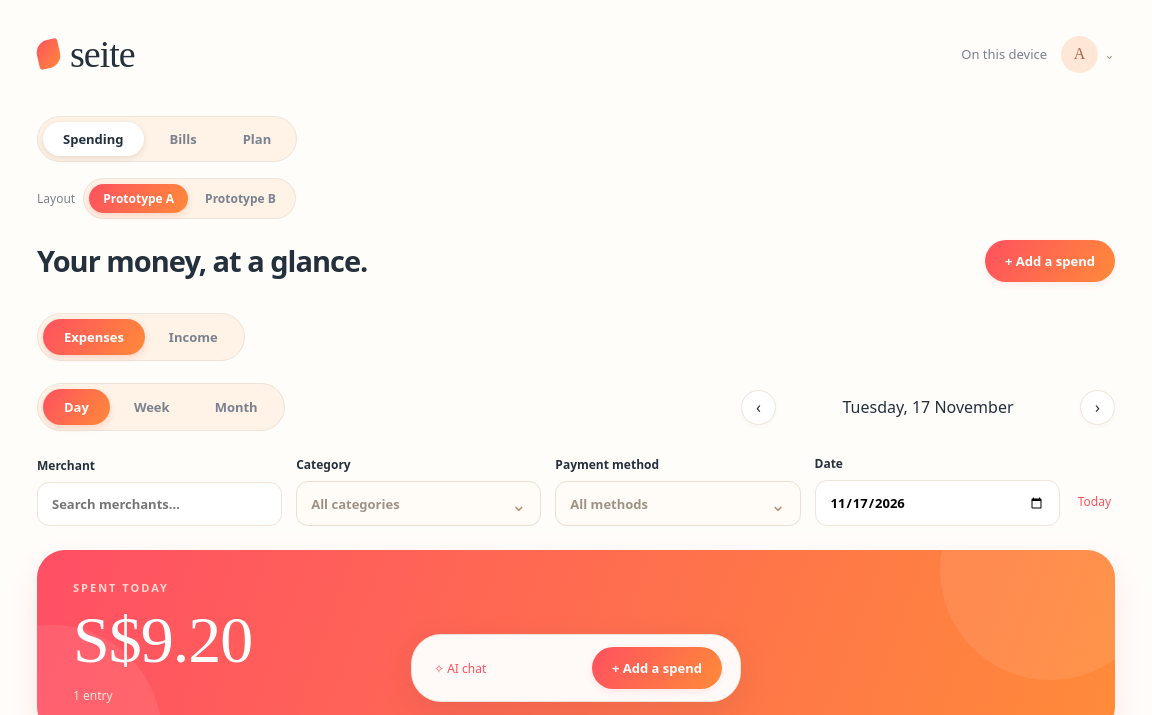
Test case: account navigation › ends the local session without deleting entries or profile
Expected: the heading "Your money, at a glance." is shown, [37,241,367,280]
Click the heading named "Open account menu".
click(1088, 54)  # box [1061,36,1115,72]
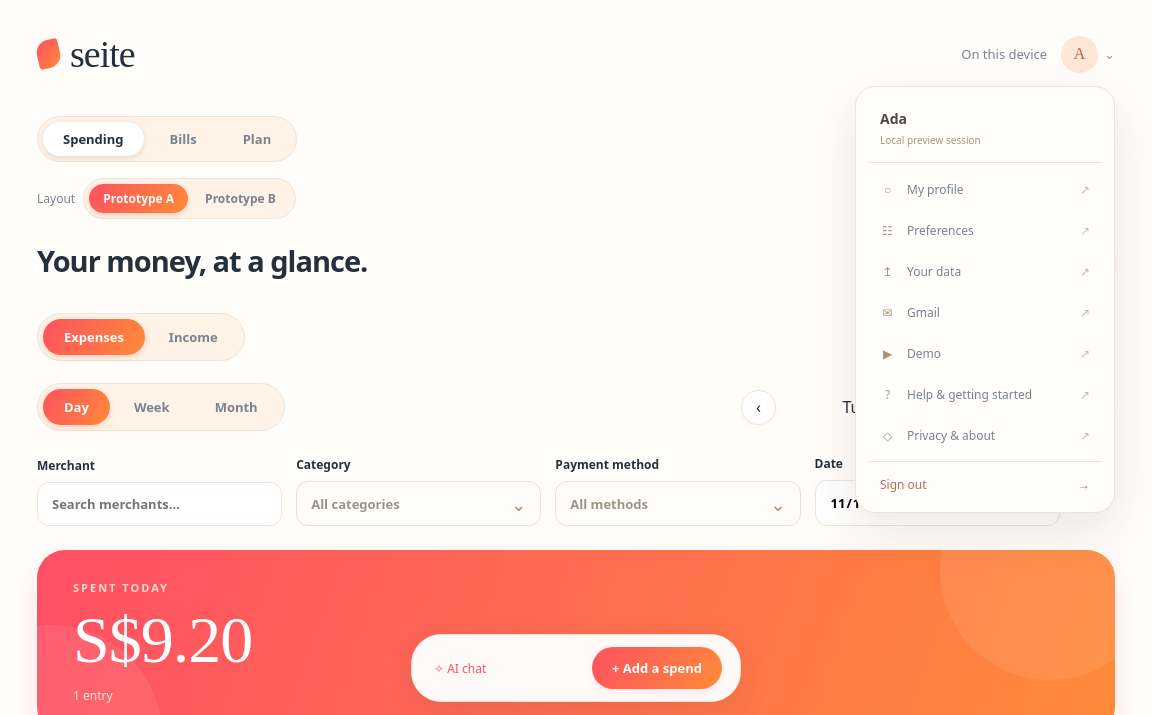
Click the button "Sign out →".
click(985, 480)  # box [868,460,1102,500]
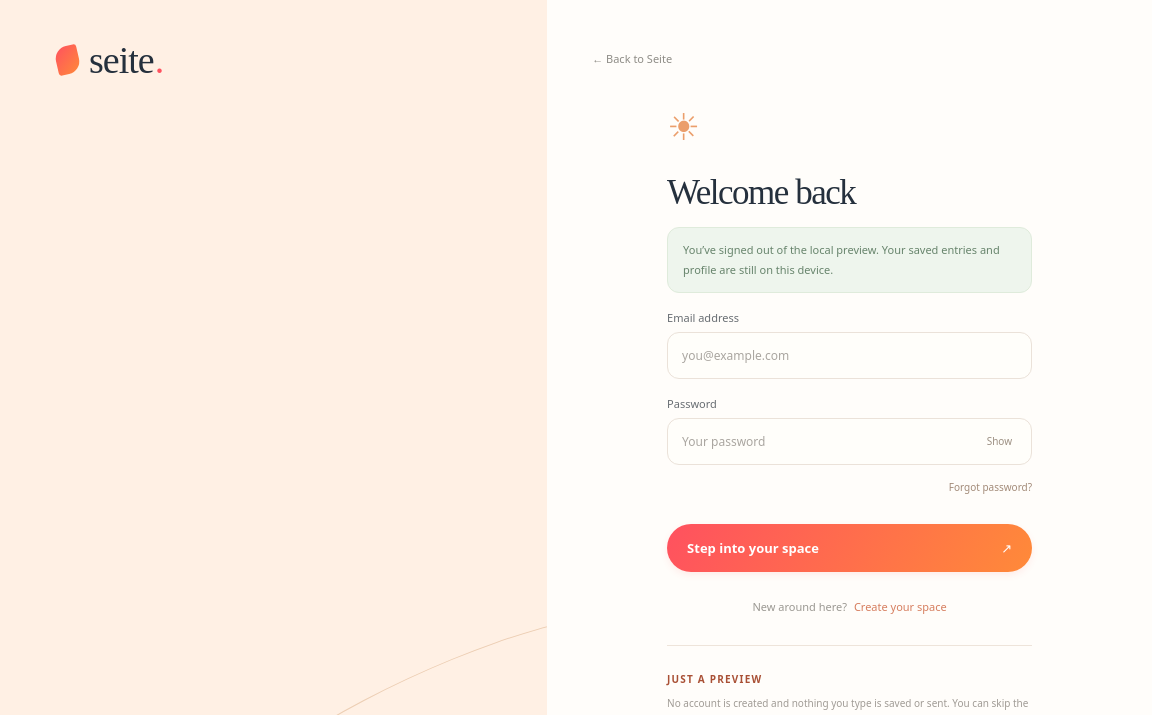
Now the heading "Welcome back" is shown, box [667,173,855,212]
Now the message shows "You’ve signed out", box [683,242,1000,277]
